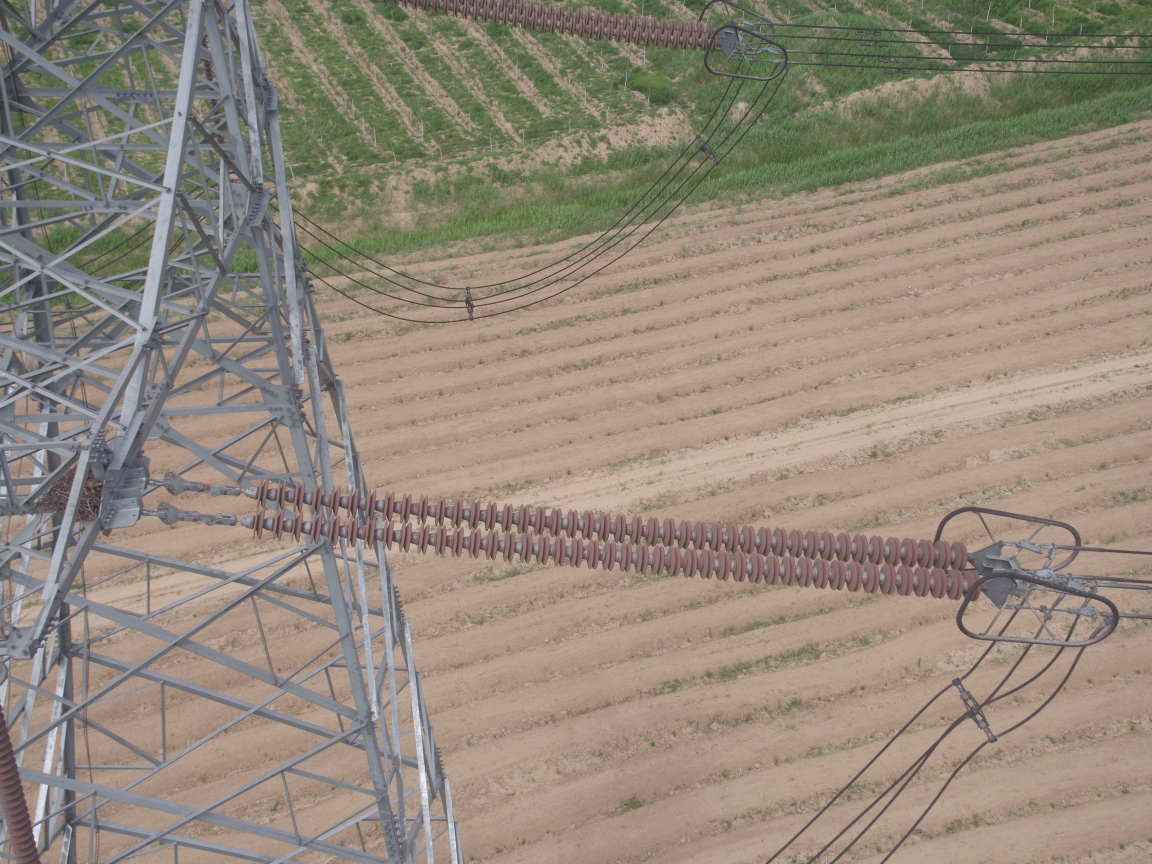insulator: (191, 471, 995, 603), (357, 1, 721, 53)
